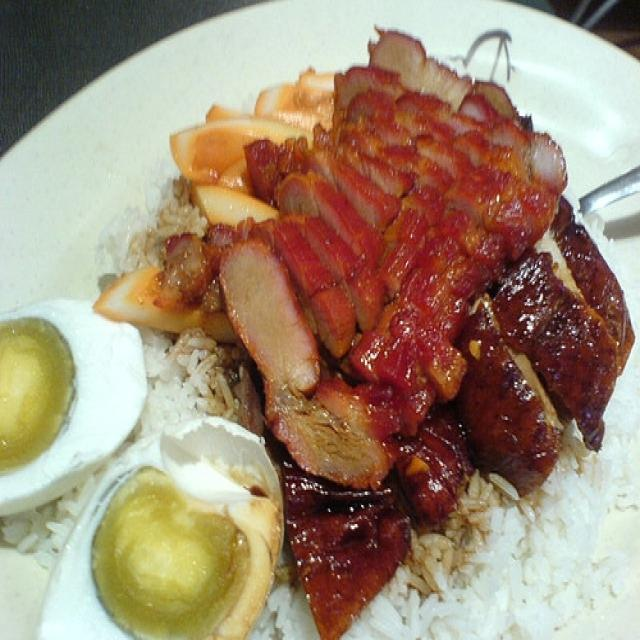猪肉菜式: (19, 24, 624, 614)
